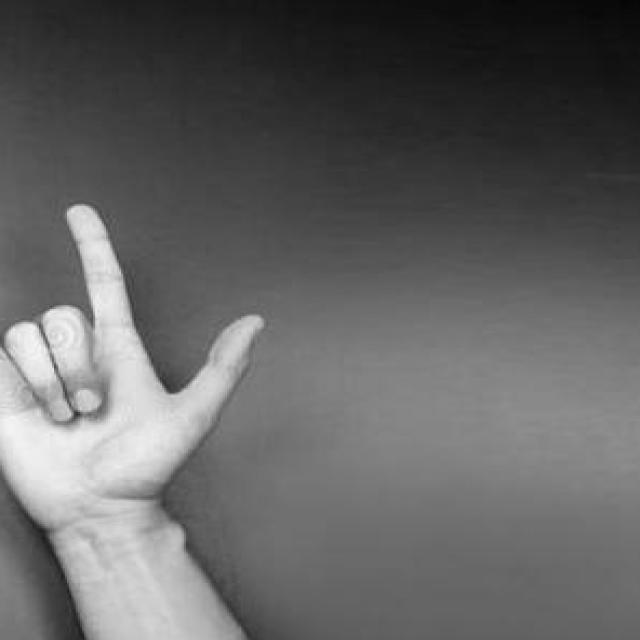i love you: (0, 198, 272, 561)
